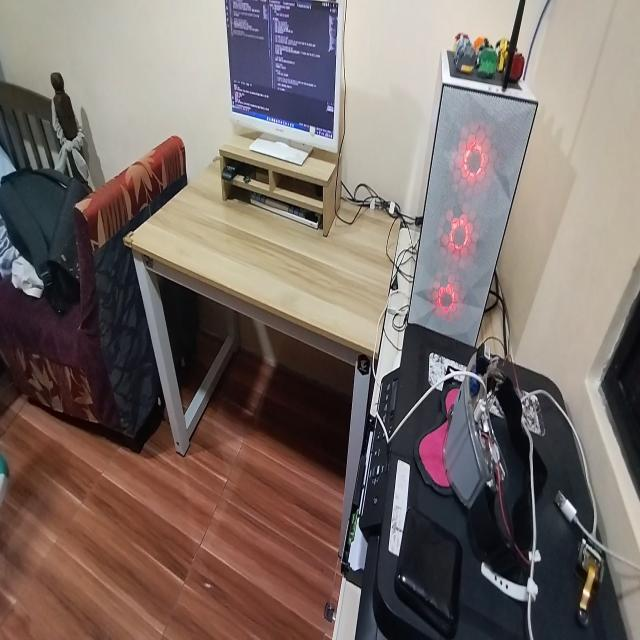table: (131, 144, 408, 491)
